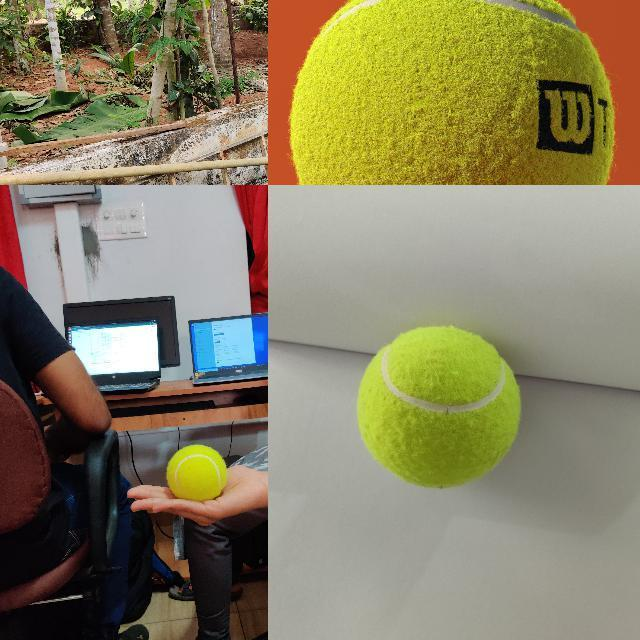tennis-ball: (289, 0, 615, 184), (355, 326, 524, 491), (166, 445, 226, 498)
